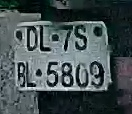0: (73, 62, 91, 89)
5: (45, 59, 60, 90)
7: (57, 24, 74, 54)
8: (60, 61, 75, 89)
9: (89, 59, 105, 90)
B: (15, 60, 25, 90)
D: (25, 27, 39, 55)
L: (38, 24, 50, 55), (24, 62, 37, 89)
S: (74, 25, 89, 55)
